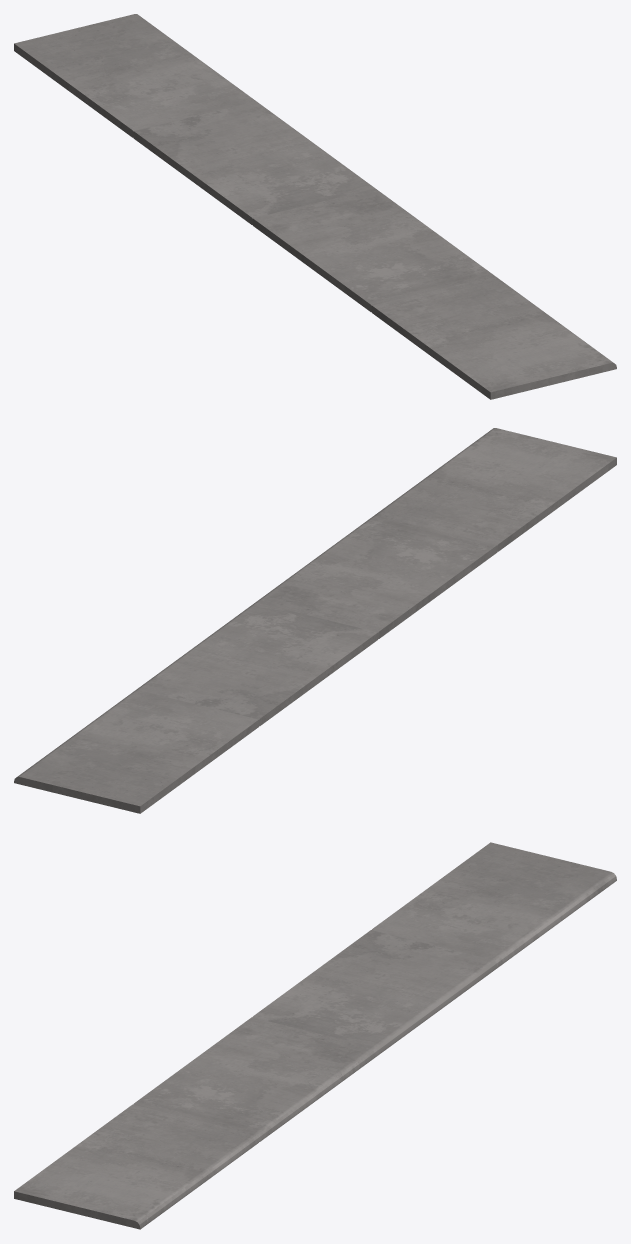
Rendered from sidewalk.fbx.
3 renders of one model, top to bottom at view 1: azimuth 30°, elevation 25°; view 2: azimuth 150°, elevation 25°; view 3: azimuth 330°, elevation 25°, orthographic.
Parts seen in each view (by area): view 1: sidewalk; view 2: sidewalk; view 3: sidewalk.
Part boxes in pixels (x1,y1,x2,y2): sidewalk: (14, 14, 616, 399); sidewalk: (14, 428, 616, 813); sidewalk: (14, 842, 616, 1229).
Bounding box in the file's own units: 393 × 22.37 × 2567.
1 material, 1 textured.
